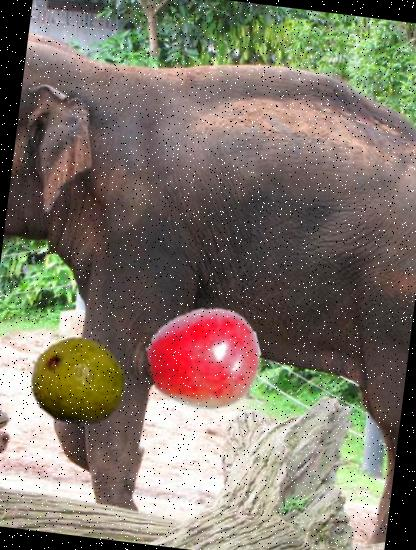Cherry: (143, 299, 268, 424)
Guava: (24, 328, 132, 436)
